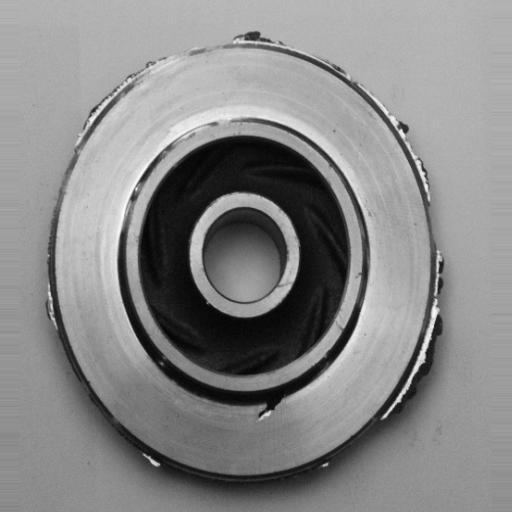casting_with_burr: (45, 27, 447, 490)
crack: (250, 388, 299, 428)
scratch: (167, 106, 244, 146)
